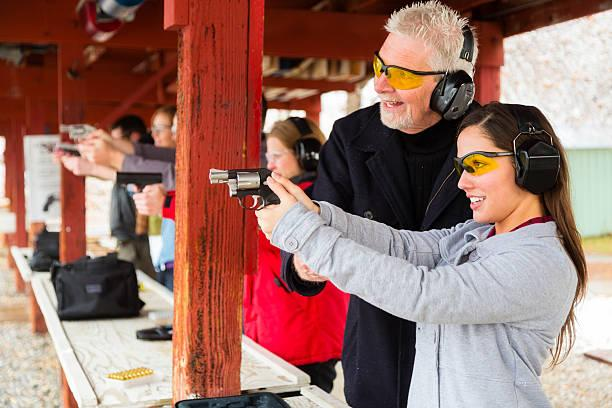weapon: (209, 164, 300, 216), (116, 167, 166, 204), (61, 116, 102, 144)
